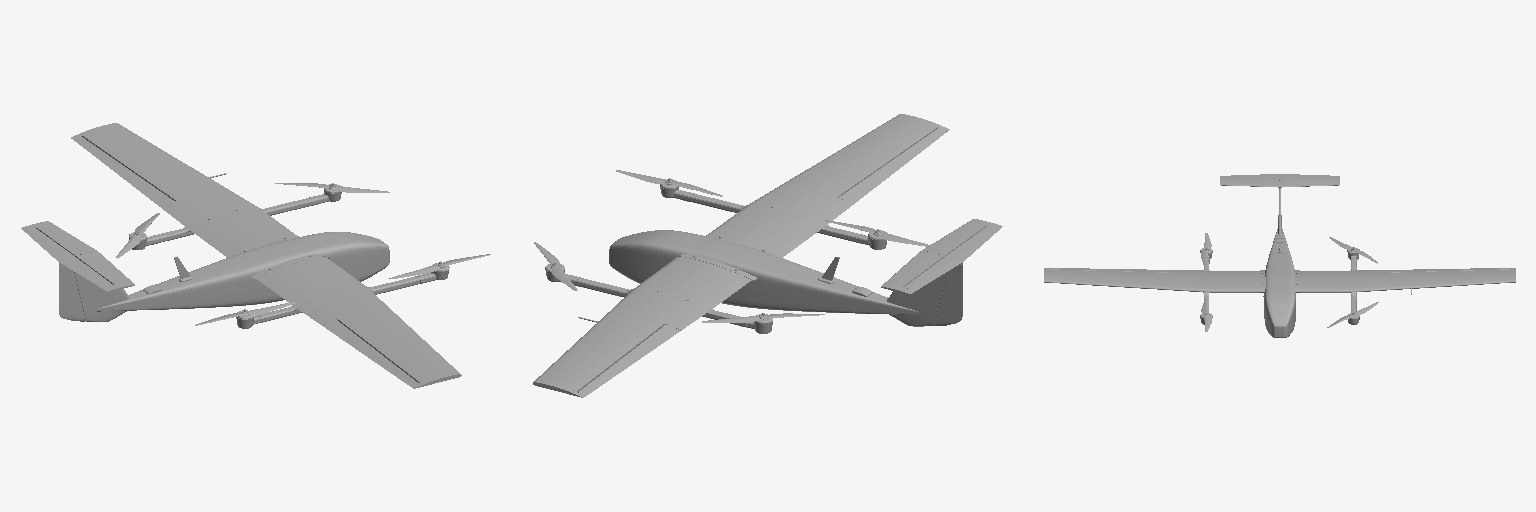
URDF robot description (vtol_dron):
<?xml version="1.0" ?>
<!-- =================================================================================== -->
<!-- |    This document was autogenerated by xacro from vtol_simple.xacro              | -->
<!-- |    EDITING THIS FILE BY HAND IS NOT RECOMMENDED                                 | -->
<!-- =================================================================================== -->
<robot name="vtol_dron">
  <material name="silver">
    <color rgba="0.700 0.700 0.700 1.000"/>
  </material>
  <transmission name="Revolute 17_tran">
    <type>transmission_interface/SimpleTransmission</type>
    <joint name="Revolute 17">
      <hardwareInterface>hardware_interface/EffortJointInterface</hardwareInterface>
    </joint>
    <actuator name="Revolute 17_actr">
      <hardwareInterface>hardware_interface/EffortJointInterface</hardwareInterface>
      <mechanicalReduction>1</mechanicalReduction>
    </actuator>
  </transmission>
  <transmission name="Revolute 18_tran">
    <type>transmission_interface/SimpleTransmission</type>
    <joint name="Revolute 18">
      <hardwareInterface>hardware_interface/EffortJointInterface</hardwareInterface>
    </joint>
    <actuator name="Revolute 18_actr">
      <hardwareInterface>hardware_interface/EffortJointInterface</hardwareInterface>
      <mechanicalReduction>1</mechanicalReduction>
    </actuator>
  </transmission>
  <transmission name="Revolute 19_tran">
    <type>transmission_interface/SimpleTransmission</type>
    <joint name="Revolute 19">
      <hardwareInterface>hardware_interface/EffortJointInterface</hardwareInterface>
    </joint>
    <actuator name="Revolute 19_actr">
      <hardwareInterface>hardware_interface/EffortJointInterface</hardwareInterface>
      <mechanicalReduction>1</mechanicalReduction>
    </actuator>
  </transmission>
  <transmission name="Revolute 20_tran">
    <type>transmission_interface/SimpleTransmission</type>
    <joint name="Revolute 20">
      <hardwareInterface>hardware_interface/EffortJointInterface</hardwareInterface>
    </joint>
    <actuator name="Revolute 20_actr">
      <hardwareInterface>hardware_interface/EffortJointInterface</hardwareInterface>
      <mechanicalReduction>1</mechanicalReduction>
    </actuator>
  </transmission>
  <gazebo>
    <plugin filename="libgazebo_ros_control.so" name="control"/>
  </gazebo>
  <gazebo reference="base_link">
    <material>Gazebo/Silver</material>
    <mu1>0.2</mu1>
    <mu2>0.2</mu2>
    <self_collide>true</self_collide>
    <gravity>true</gravity>
  </gazebo>
  <gazebo reference="mechanism__1_1">
    <material>Gazebo/Silver</material>
    <mu1>0.2</mu1>
    <mu2>0.2</mu2>
    <self_collide>true</self_collide>
  </gazebo>
  <gazebo reference="rear_left_propeller_1">
    <material>Gazebo/Silver</material>
    <mu1>0.2</mu1>
    <mu2>0.2</mu2>
    <self_collide>true</self_collide>
  </gazebo>
  <gazebo reference="rear_right_propeller_1">
    <material>Gazebo/Silver</material>
    <mu1>0.2</mu1>
    <mu2>0.2</mu2>
    <self_collide>true</self_collide>
  </gazebo>
  <gazebo reference="front_left_propeller_1">
    <material>Gazebo/Silver</material>
    <mu1>0.2</mu1>
    <mu2>0.2</mu2>
    <self_collide>true</self_collide>
  </gazebo>
  <gazebo reference="front_right_propeller_1">
    <material>Gazebo/Silver</material>
    <mu1>0.2</mu1>
    <mu2>0.2</mu2>
    <self_collide>true</self_collide>
  </gazebo>
  <!-- ==================== BASE LINK ==================== -->
  <link name="base_link">
    <inertial>
      <!-- almost weightless -->
      <origin rpy="0 0 0" xyz="0 0 0"/>
      <mass value="0.0001"/>
      <inertia ixx="1e-6" ixy="0" ixz="0" iyy="1e-6" iyz="0" izz="1e-6"/>
    </inertial>
    <visual>
      <origin rpy="0 0 0" xyz="0 0 0"/>
      <geometry>
        <mesh filename="meshes/base_link.stl" scale="0.001 0.001 0.001"/>
      </geometry>
      <material name="silver"/>
    </visual>
    <collision>
      <origin rpy="0 0 0" xyz="0 0 0"/>
      <geometry>
        <mesh filename="meshes/base_link.stl" scale="0.001 0.001 0.001"/>
      </geometry>
    </collision>
  </link>
  <!-- ==================== MECHANISM ==================== -->
  <link name="mechanism__1_1">
    <inertial>
      <!-- negligible mass -->
      <origin rpy="0 0 0" xyz="0 0 0"/>
      <mass value="0.0001"/>
      <inertia ixx="1e-6" ixy="0" ixz="0" iyy="1e-6" iyz="0" izz="1e-6"/>
    </inertial>
    <visual>
      <origin rpy="0 0 0" xyz="0.014058 0.00682 -0.047465"/>
      <geometry>
        <mesh filename="meshes/mechanism__1_1.stl" scale="0.001 0.001 0.001"/>
      </geometry>
      <material name="silver"/>
    </visual>
    <collision>
      <origin rpy="0 0 0" xyz="0.014058 0.00682 -0.047465"/>
      <geometry>
        <mesh filename="meshes/mechanism__1_1.stl" scale="0.001 0.001 0.001"/>
      </geometry>
    </collision>
  </link>
  <!-- ==================== PROPELLER LINKS ==================== -->
  <!-- Each propeller has realistic mass (0.75 kg) and simple inertia -->
  <link name="rear_left_propeller_1">
    <inertial>
      <origin rpy="0 0 0" xyz="0 0 0"/>
      <mass value="0.75"/>
      <inertia ixx="0.001" ixy="0" ixz="0" iyy="0.001" iyz="0" izz="0.002"/>
    </inertial>
    <visual>
      <origin rpy="0 0 0" xyz="0.467618 -0.492756 -0.202098"/>
      <geometry>
        <mesh filename="meshes/rear_left_propeller_1.stl" scale="0.001 0.001 0.001"/>
      </geometry>
      <material name="silver"/>
    </visual>
    <collision>
      <origin rpy="0 0 0" xyz="0.467618 -0.492756 -0.202098"/>
      <geometry>
        <mesh filename="meshes/rear_left_propeller_1.stl" scale="0.001 0.001 0.001"/>
      </geometry>
    </collision>
  </link>
  <link name="rear_right_propeller_1">
    <inertial>
      <origin rpy="0 0 0" xyz="0 0 0"/>
      <mass value="0.75"/>
      <inertia ixx="0.001" ixy="0" ixz="0" iyy="0.001" iyz="0" izz="0.002"/>
    </inertial>
    <visual>
      <origin rpy="0 0 0" xyz="0.467618 0.507244 -0.202098"/>
      <geometry>
        <mesh filename="meshes/rear_right_propeller_1.stl" scale="0.001 0.001 0.001"/>
      </geometry>
      <material name="silver"/>
    </visual>
    <collision>
      <origin rpy="0 0 0" xyz="0.467618 0.507244 -0.202098"/>
      <geometry>
        <mesh filename="meshes/rear_right_propeller_1.stl" scale="0.001 0.001 0.001"/>
      </geometry>
    </collision>
  </link>
  <link name="front_left_propeller_1">
    <inertial>
      <origin rpy="0 0 0" xyz="0 0 0"/>
      <mass value="0.75"/>
      <inertia ixx="0.001" ixy="0" ixz="0" iyy="0.001" iyz="0" izz="0.002"/>
    </inertial>
    <visual>
      <origin rpy="0 0 0" xyz="-0.582382 -0.492756 -0.202098"/>
      <geometry>
        <mesh filename="meshes/front_left_propeller_1.stl" scale="0.001 0.001 0.001"/>
      </geometry>
      <material name="silver"/>
    </visual>
    <collision>
      <origin rpy="0 0 0" xyz="-0.582382 -0.492756 -0.202098"/>
      <geometry>
        <mesh filename="meshes/front_left_propeller_1.stl" scale="0.001 0.001 0.001"/>
      </geometry>
    </collision>
  </link>
  <link name="front_right_propeller_1">
    <inertial>
      <origin rpy="0 0 0" xyz="0 0 0"/>
      <mass value="0.75"/>
      <inertia ixx="0.001" ixy="0" ixz="0" iyy="0.001" iyz="0" izz="0.002"/>
    </inertial>
    <visual>
      <origin rpy="0 0 0" xyz="-0.582382 0.507244 -0.202098"/>
      <geometry>
        <mesh filename="meshes/front_right_propeller_1.stl" scale="0.001 0.001 0.001"/>
      </geometry>
      <material name="silver"/>
    </visual>
    <collision>
      <origin rpy="0 0 0" xyz="-0.582382 0.507244 -0.202098"/>
      <geometry>
        <mesh filename="meshes/front_right_propeller_1.stl" scale="0.001 0.001 0.001"/>
      </geometry>
    </collision>
  </link>
  <!-- ==================== JOINTS ==================== -->
  <joint name="Rigid_16" type="fixed">
    <origin rpy="0 0 0" xyz="-0.014058 -0.00682 0.047465"/>
    <parent link="base_link"/>
    <child link="mechanism__1_1"/>
  </joint>
  <joint name="Revolute_17" type="continuous">
    <origin rpy="0 0 0" xyz="-0.467618 0.492756 0.202098"/>
    <parent link="base_link"/>
    <child link="rear_left_propeller_1"/>
    <axis xyz="0 0 1"/>
  </joint>
  <joint name="Revolute_18" type="continuous">
    <origin rpy="0 0 0" xyz="-0.467618 -0.507244 0.202098"/>
    <parent link="base_link"/>
    <child link="rear_right_propeller_1"/>
    <axis xyz="0 0 1"/>
  </joint>
  <joint name="Revolute_19" type="continuous">
    <origin rpy="0 0 0" xyz="0.582382 0.492756 0.202098"/>
    <parent link="base_link"/>
    <child link="front_left_propeller_1"/>
    <axis xyz="0 0 1"/>
  </joint>
  <joint name="Revolute_20" type="continuous">
    <origin rpy="0 0 0" xyz="0.582382 -0.507244 0.202098"/>
    <parent link="base_link"/>
    <child link="front_right_propeller_1"/>
    <axis xyz="0 0 1"/>
  </joint>
</robot>

--- Facts derived from the render (not from the file) ---
The picture shows the robot from 3 angles, left to right: view 1: azimuth 30°, elevation 25°; view 2: azimuth 150°, elevation 25°; view 3: azimuth 270°, elevation 25°; orthographic projection.
Model vtol_dron with 6 links and 5 joints (4 continuous, 1 fixed), rooted at base_link, posed all joints at 0.
Links seen in each view (by area): view 1: base_link; view 2: base_link; view 3: base_link.
Link boxes in pixels (<box>): base_link: <box>21,123,461,388</box>; base_link: <box>533,114,1002,397</box>; base_link: <box>1044,174,1515,337</box>.
Size in the robot's own frame: 2.04 by 3.2 by 0.4626 metres.
Meshes: 6 distinct files referenced, 6 mesh visuals loaded (6 binary STL).
